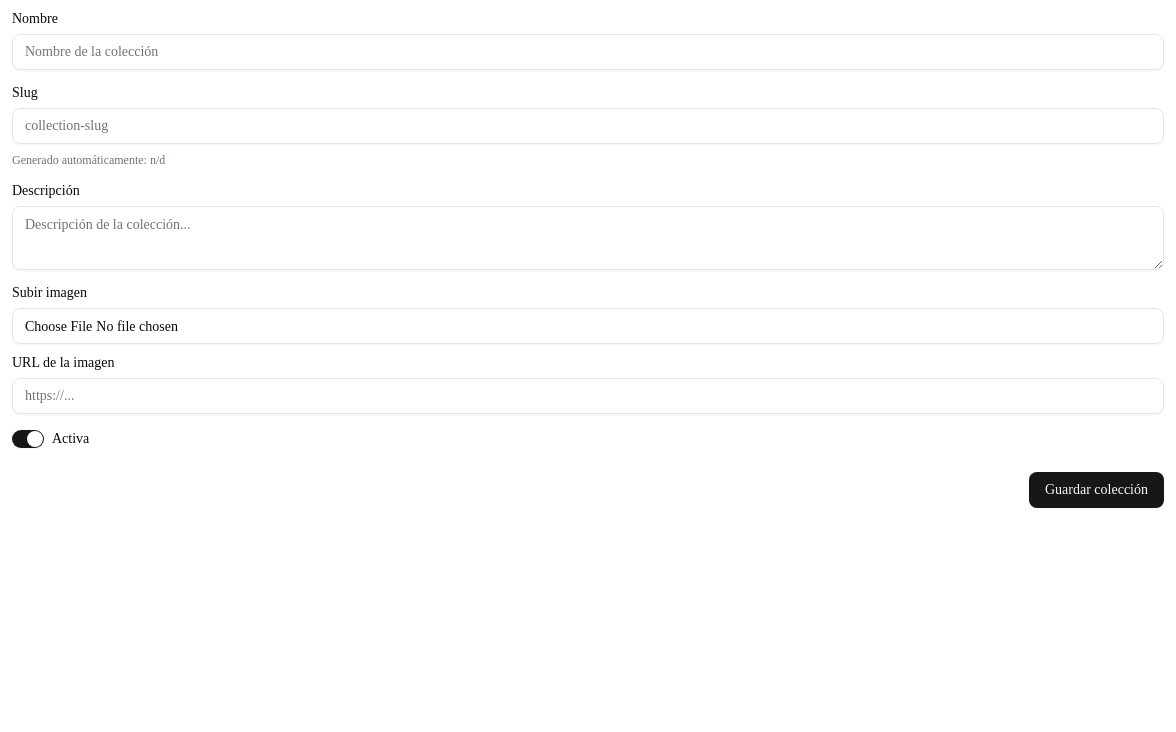
Test: CollectionForm: fields › turns spaces into dashes when deriving the slug
The width and height of the screenshot is (1176, 732).
Type "Pulseras Cubanas" into the field labelled "Nombre" at (588, 52), box x1=12 y1=34 x2=1164 y2=70
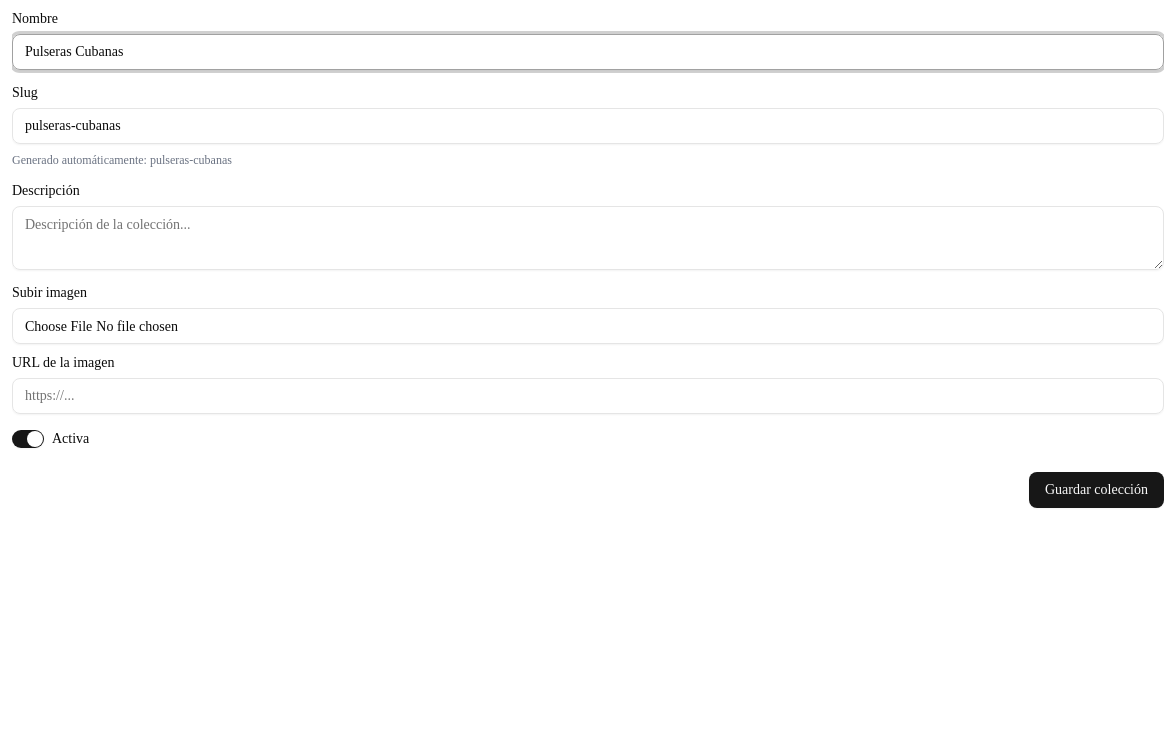
Expected: the field labelled "Slug" holds "pulseras-cubanas", x1=12 y1=108 x2=1164 y2=144
